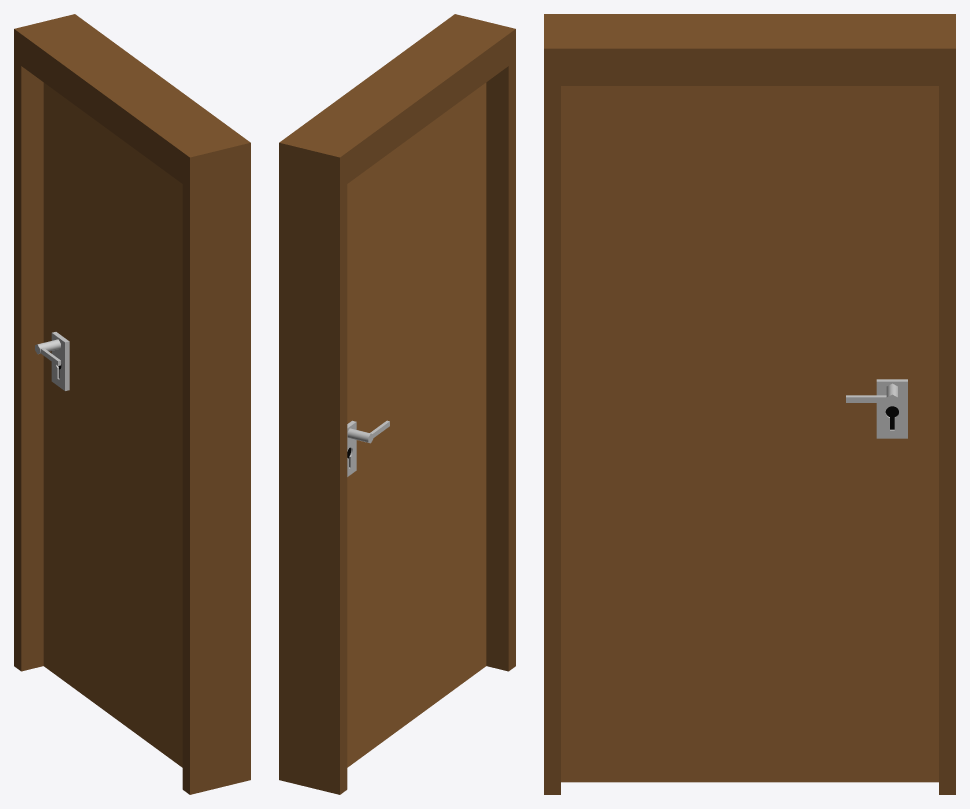
File: porta01.FBX
3 views of the same model, side by side, from view 1: azimuth 30°, elevation 25°; view 2: azimuth 150°, elevation 25°; view 3: azimuth 270°, elevation 25° (orthographic). The views are drawn at different scales.
Visible parts, largest first — view 1: dor007, Escada 01, fechadura010; view 2: dor007, Escada 01, fechadura010; view 3: dor007, Escada 01, fechadura011.
Boxes of the visible parts, bbox=[...] form: dor007: bbox=[43, 82, 182, 767]; Escada 01: bbox=[14, 14, 250, 794]; fechadura010: bbox=[51, 332, 69, 390]; dor007: bbox=[347, 82, 486, 767]; Escada 01: bbox=[279, 14, 515, 794]; fechadura010: bbox=[347, 420, 356, 476]; dor007: bbox=[561, 86, 938, 782]; Escada 01: bbox=[544, 14, 955, 794]; fechadura011: bbox=[876, 379, 907, 438].
Bounding box in the file's own units: 8.52 × 78.74 × 39.37.
1 material, 1 textured.
